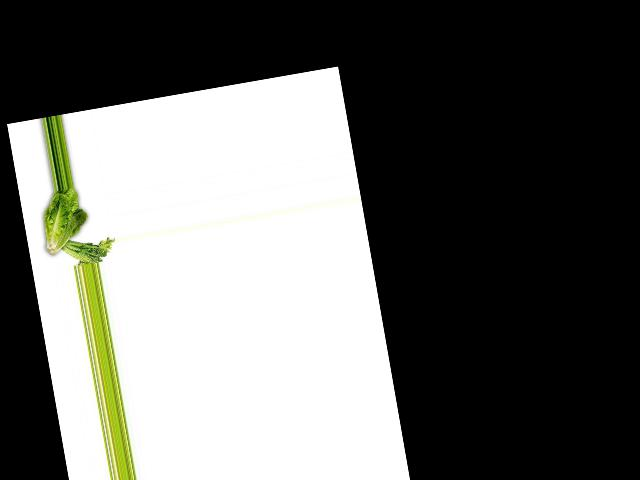lettuce: (38, 184, 98, 258)
